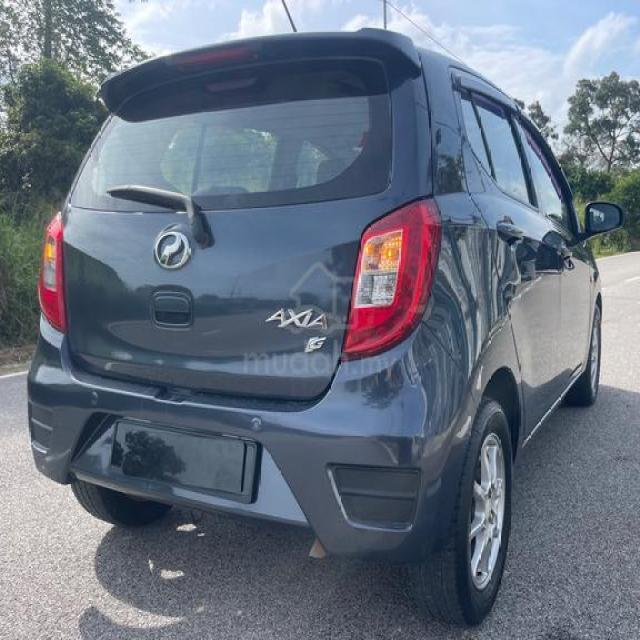PeroduaAxia: (25, 25, 622, 627)
